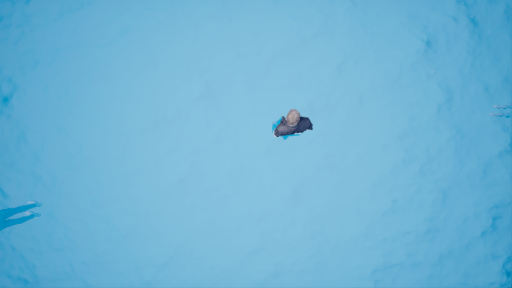person: (257, 106, 324, 154)
